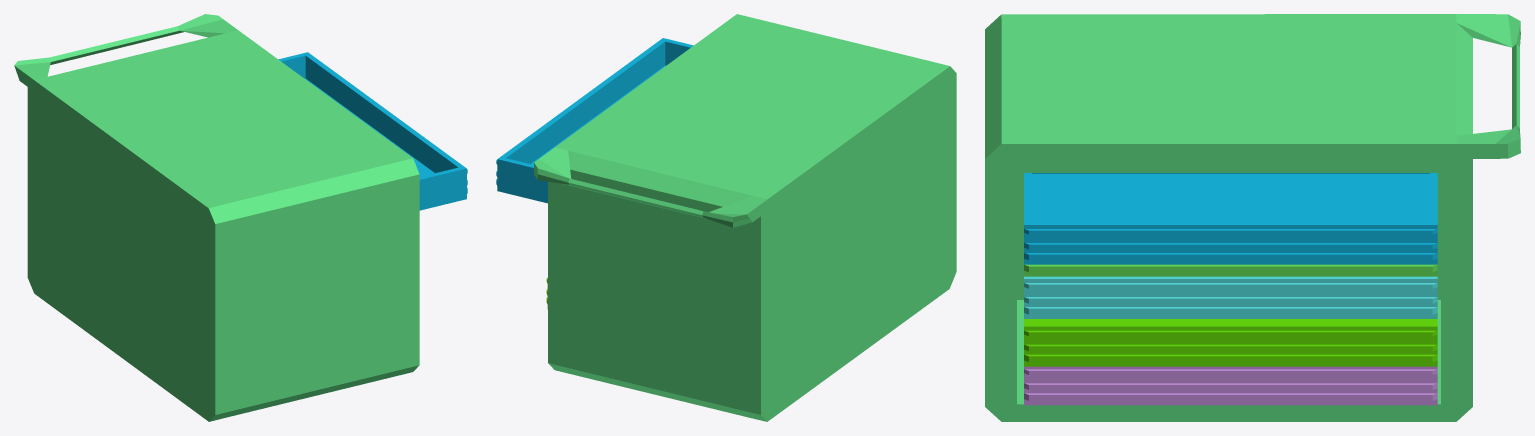
File: Kast.fbx
The picture shows the model from 3 angles, left to right: view 1: azimuth 30°, elevation 25°; view 2: azimuth 150°, elevation 25°; view 3: azimuth 270°, elevation 25°; orthographic projection. The views are drawn at different scales.
Visible parts, largest first — view 1: Cube, Cube.005; view 2: Cube, Cube.005; view 3: Cube, Cube.005, Cube.001, Cube.003, Cube.002, Cube.004.
Part boxes in pixels (box(x1,y1,x2,y2)): Cube: box(14, 14, 419, 421); Cube.005: box(278, 52, 467, 210); Cube: box(534, 14, 956, 421); Cube.005: box(496, 38, 693, 203); Cube: box(985, 14, 1520, 421); Cube.005: box(1024, 173, 1437, 264); Cube.001: box(1024, 319, 1437, 366); Cube.003: box(1024, 276, 1437, 318); Cube.002: box(1024, 366, 1437, 405); Cube.004: box(1024, 264, 1437, 276).
Size of the model in its own units: 198 by 150 by 262.
